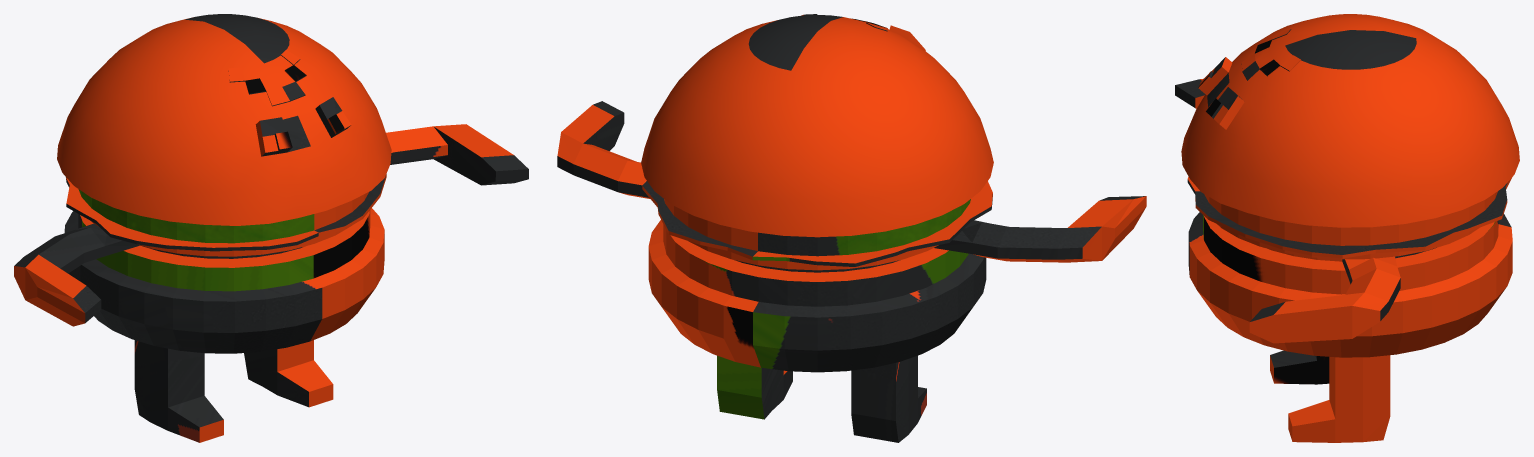
The model's file is hamburguesa.fbx.
3 views of the same model, side by side, from view 1: azimuth 30°, elevation 25°; view 2: azimuth 150°, elevation 25°; view 3: azimuth 270°, elevation 25° (orthographic). The views are drawn at different scales.
Parts seen in each view (by area): view 1: Hamburgueza001; view 2: Hamburgueza001; view 3: Hamburgueza001.
Boxes of the visible parts, <box> form: Hamburgueza001: <box>14,14,528,442</box>; Hamburgueza001: <box>557,14,1146,442</box>; Hamburgueza001: <box>1175,14,1519,442</box>.
Size of the model in its own units: 0.113 by 0.0812 by 0.0681.
